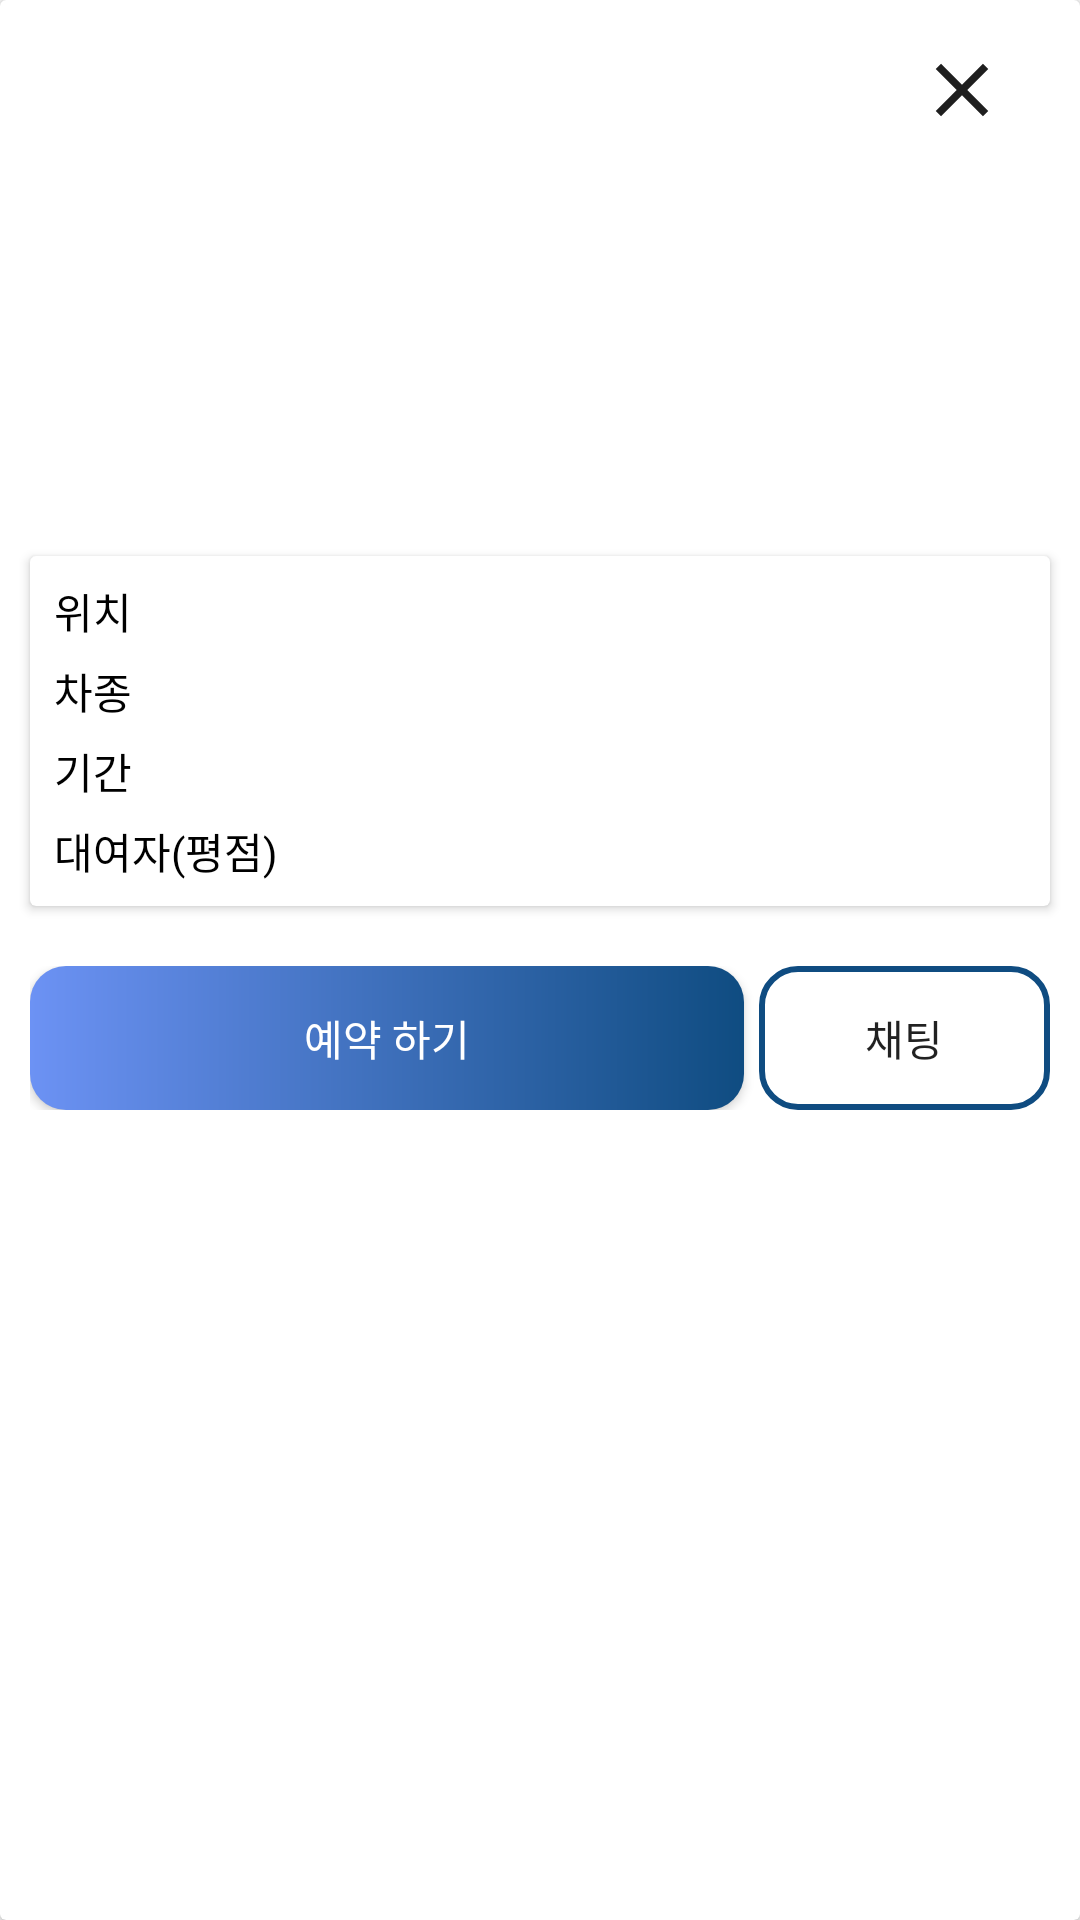

Icons on this 1080px×1920px Android screen, each with its box as (x1, y1, x2, y2):
close: (936, 64, 988, 116)
